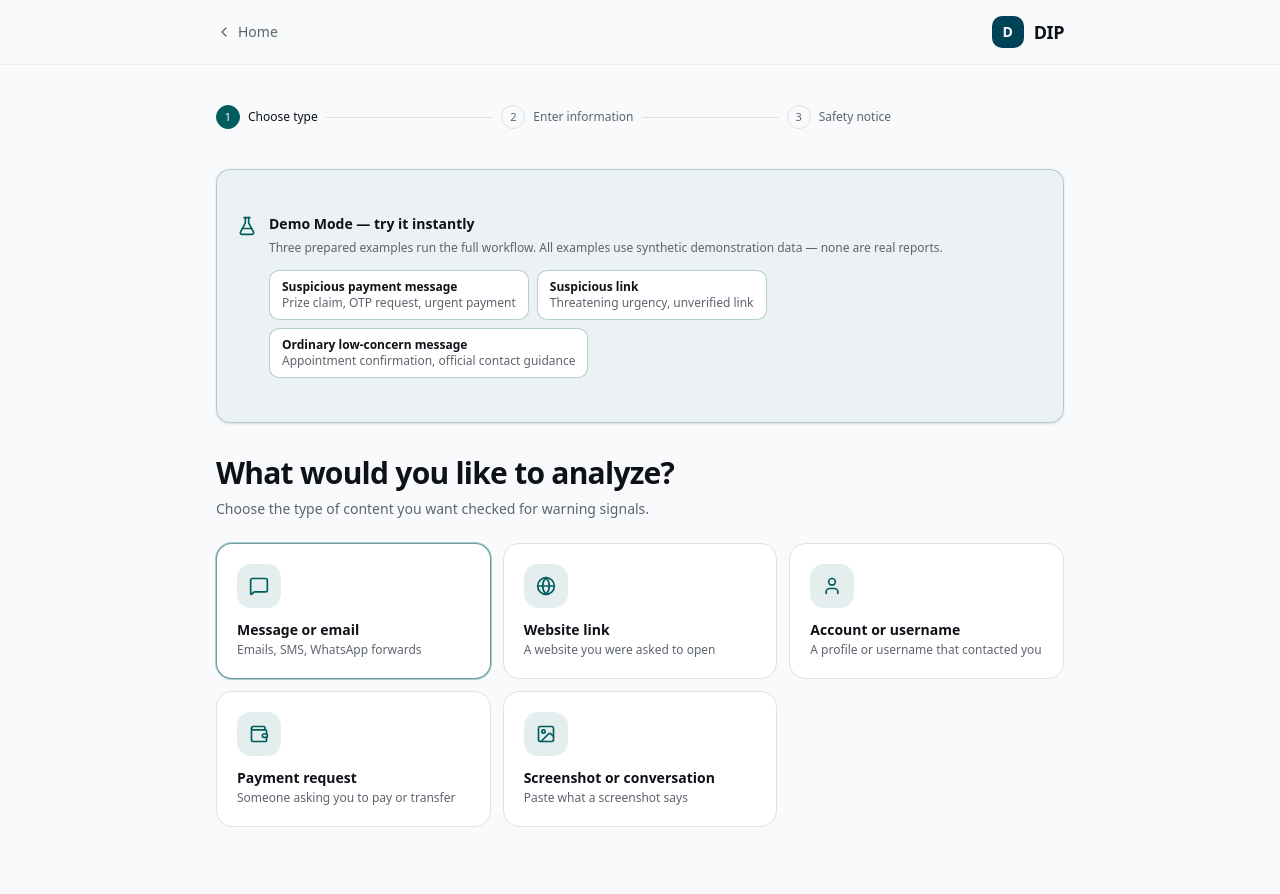
QA audit: DIP browser-level checks › 8. result displays recommended next actions
Click the text "Suspicious payment message".
click(370, 286)  # box [282, 278, 458, 294]
(page scrolled)
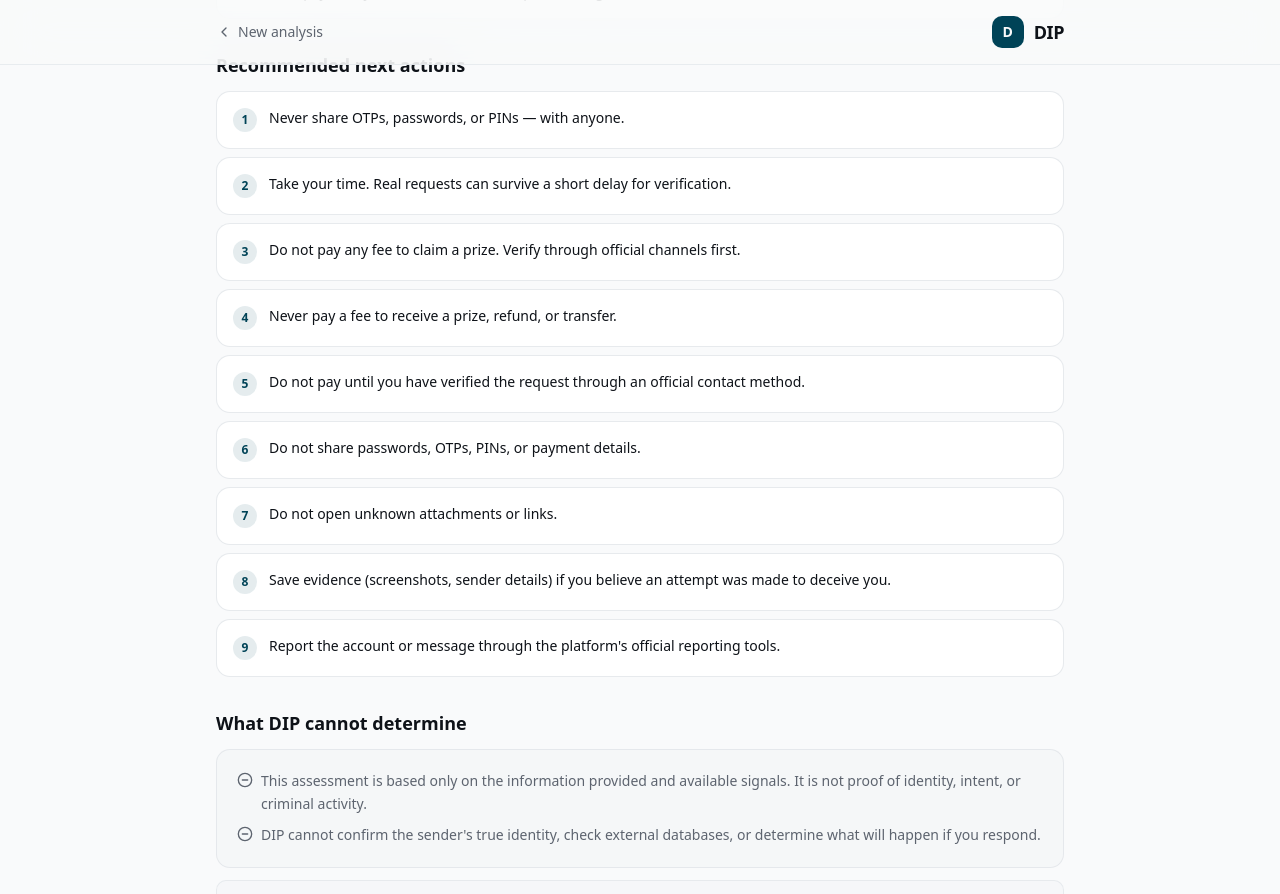
Expected: the heading "Recommended next actions" is shown, [216, 53, 465, 77]
Expected: the list item "6 Do not share passwords, OTPs, PINs, or payment details." is shown, [216, 421, 1064, 479]
